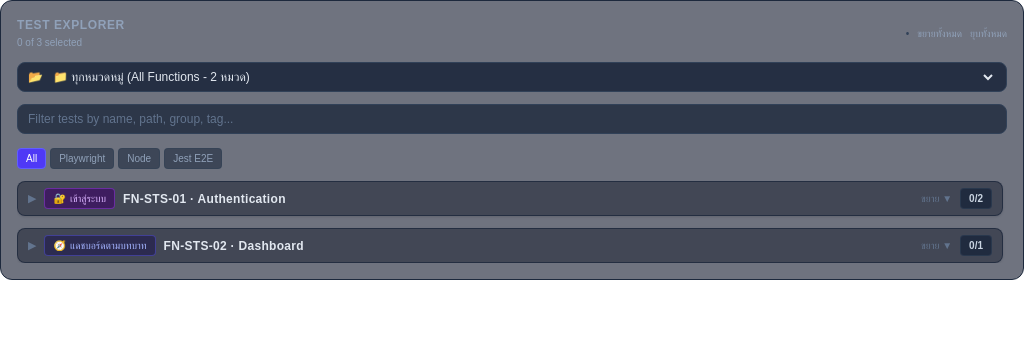
Test case: TestExplorer Component › renders runner badges, risk badges, and supports runner chip filtering
Expected: the button "All" is shown, [17,148,46,169]
Expected: the button "Playwright" is shown, [50,148,114,169]
Step 1. Click the button "Node" → (139, 158), box [118,148,160,169]
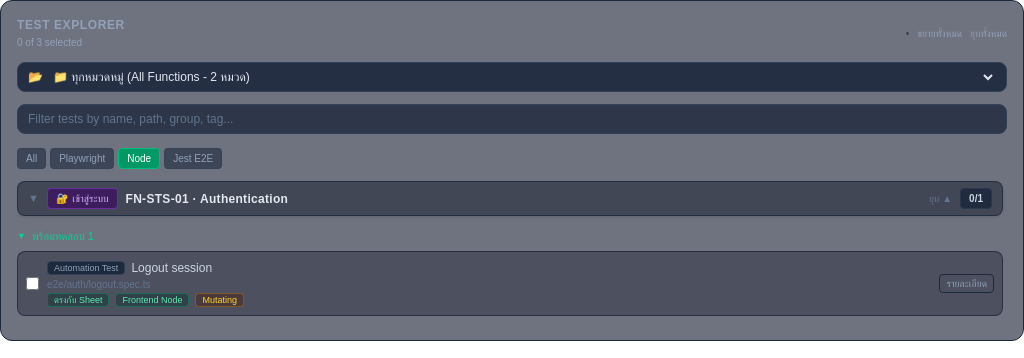
Result: the text "Logout session" is shown at [131,260,212,276]
Result: the text "Frontend Node" is shown at [115,293,189,307]
Result: the text "Mutating" is shown at [196,293,244,307]
